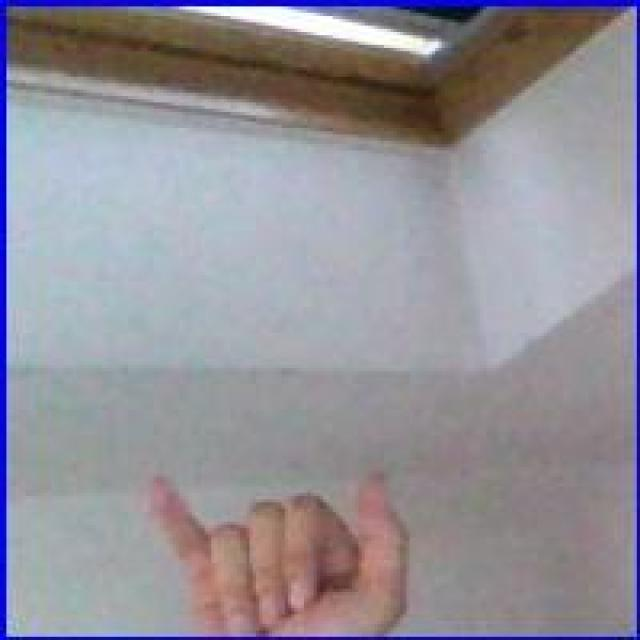Y: (138, 458, 412, 636)
